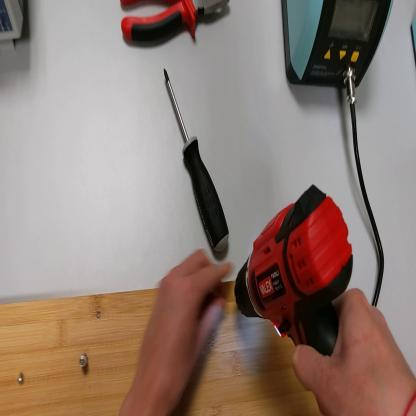electric screwdriver: (236, 184, 357, 361)
hand: (130, 251, 237, 414), (293, 290, 416, 415)
oscilloscope: (1, 1, 28, 53)
pliers: (121, 1, 233, 47)
screwdriver-: (164, 64, 231, 256)
welder base: (412, 11, 416, 65)
welder station: (282, 1, 394, 96)
working area: (1, 287, 321, 416)
